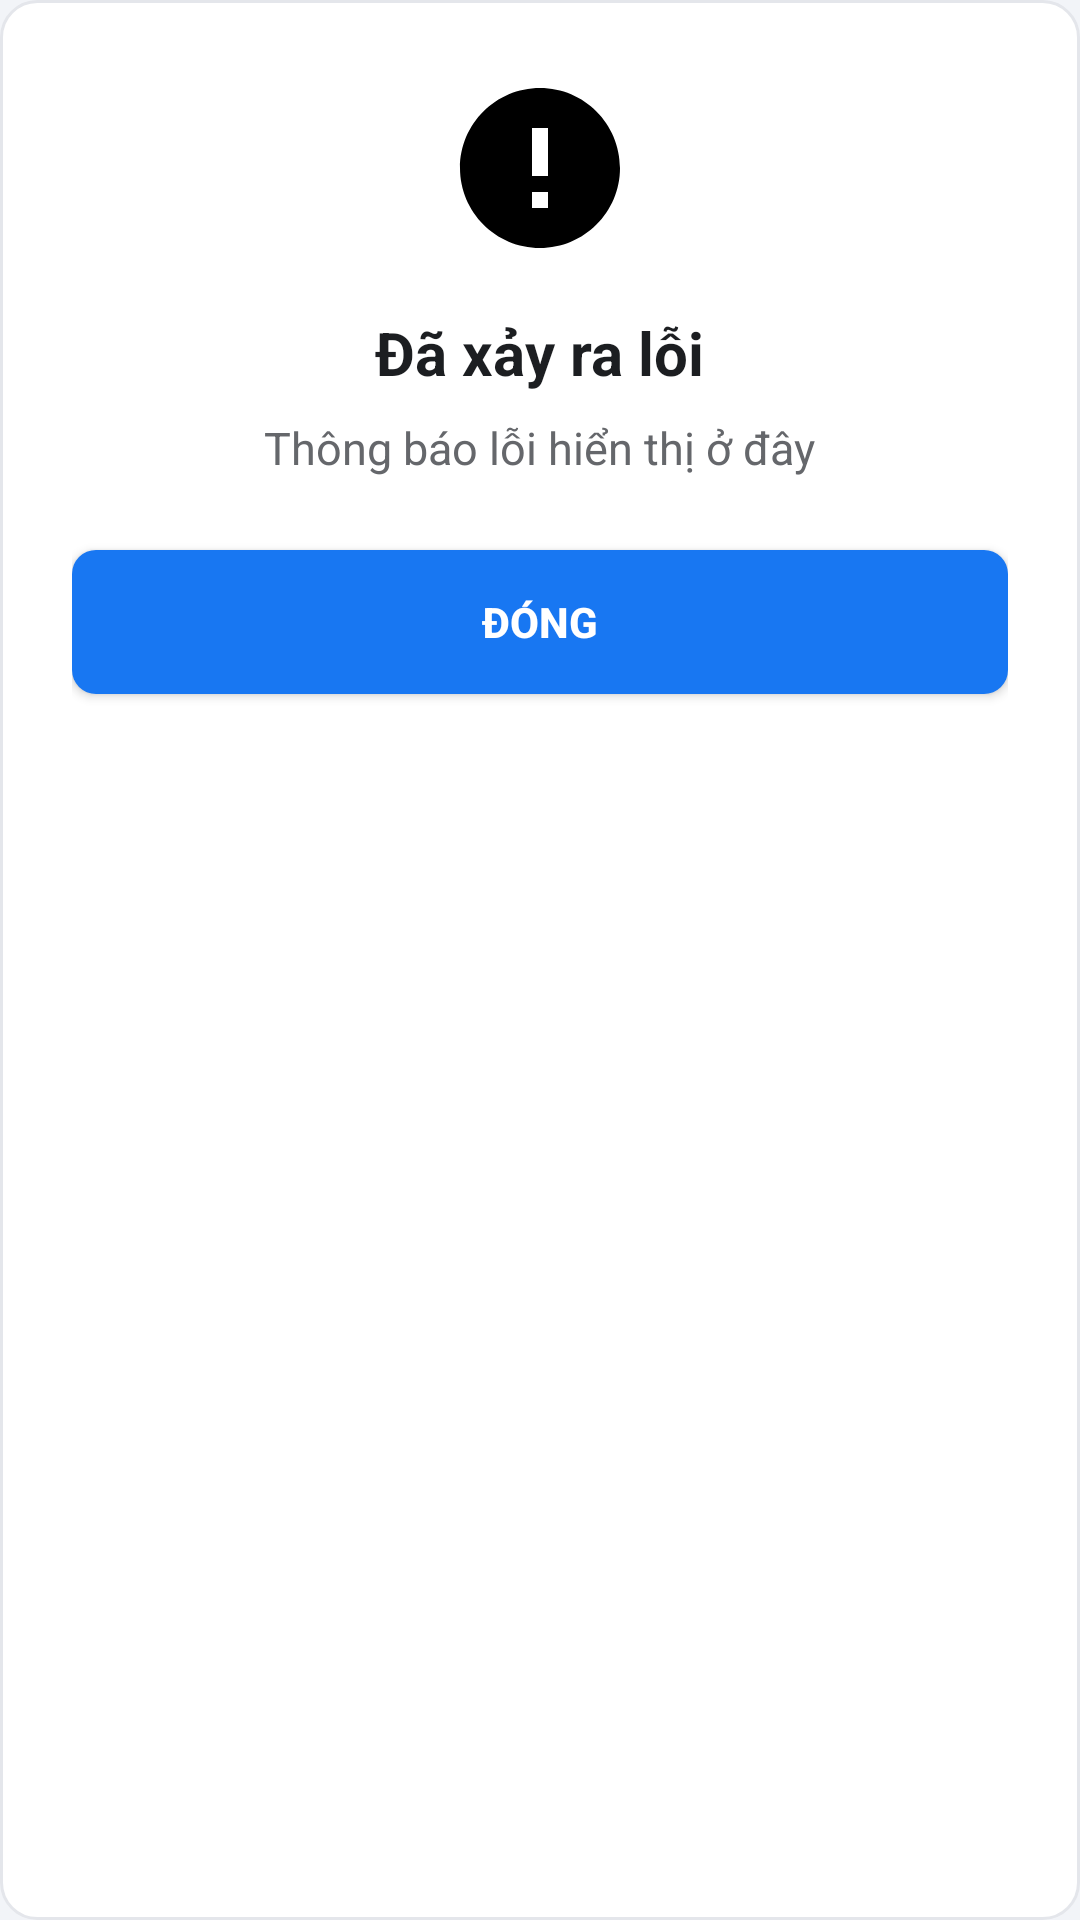

Point at icon controls on the screen. Image size 1080w x 1920h, points as point (x, y).
error: point (539, 168)
